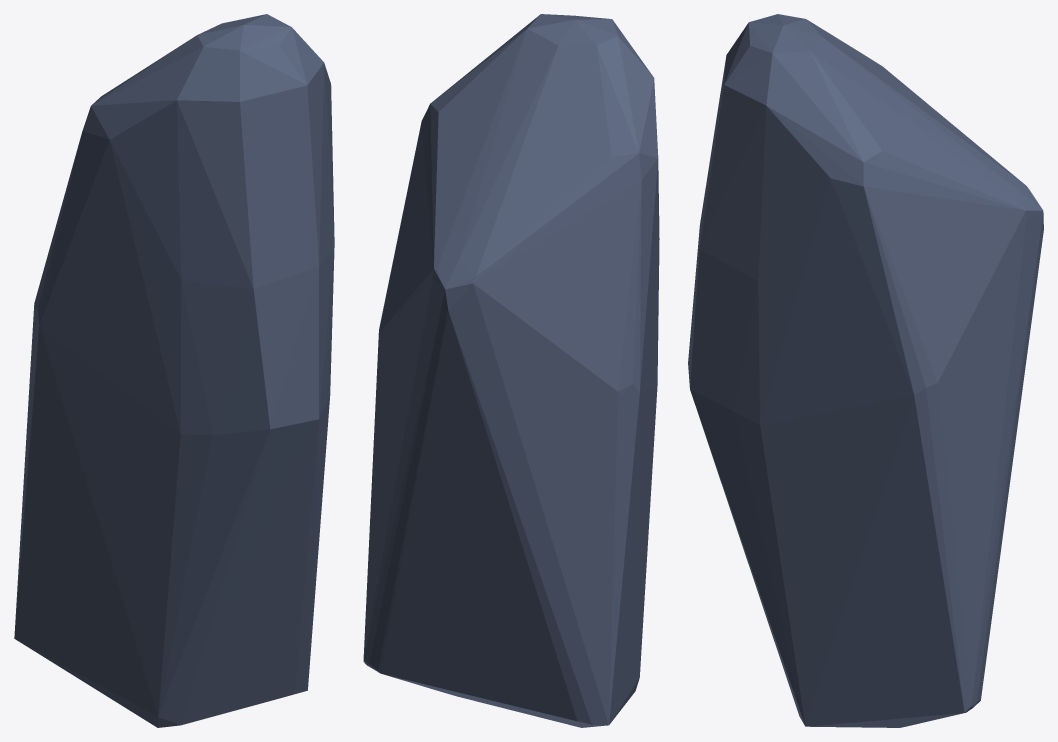
Rendered from creature_smear_gaunt.glb.
3 views of the same model, side by side, from view 1: azimuth 30°, elevation 25°; view 2: azimuth 150°, elevation 25°; view 3: azimuth 270°, elevation 25° (orthographic). The views are drawn at different scales.
Visible parts, largest first — view 1: Smear; view 2: Smear; view 3: Smear.
Boxes of the visible parts, x1,y1,x2,y2 form: Smear: (14,14,334,727); Smear: (363,14,659,727); Smear: (688,14,1043,727).
Bounding box in the file's own units: 0.9111 × 2.2 × 1.06.
